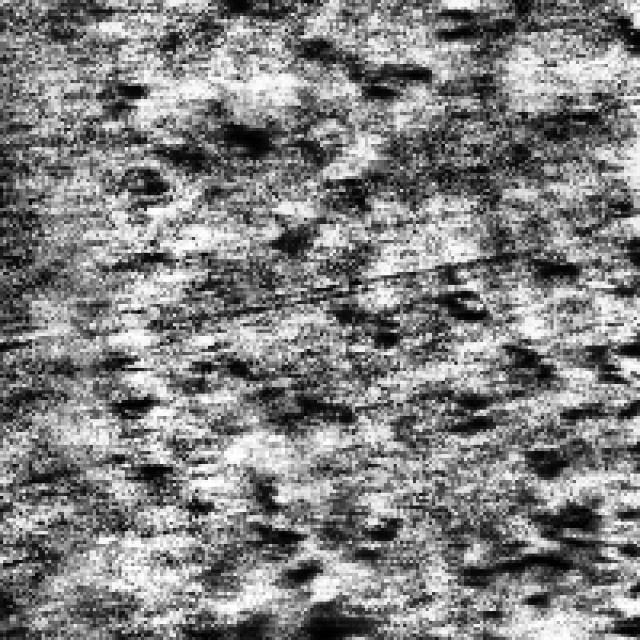Crazing: (236, 352, 634, 624), (100, 67, 422, 221)
